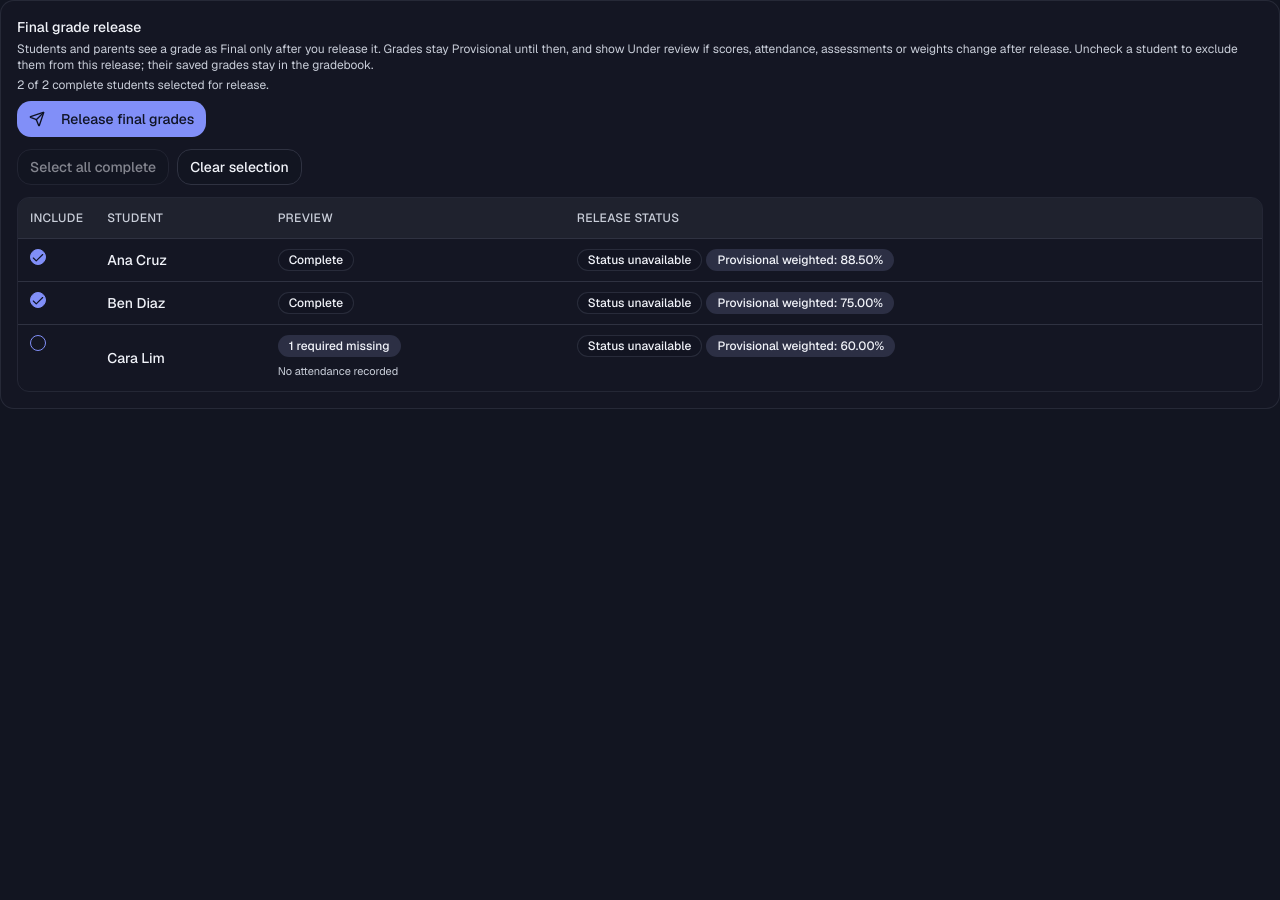
Test: FinalGradeReleasePanel › cannot start a second release while one is in flight
Step 1. Click the button "Release final grades" → (112, 119), box [17,101,206,137]
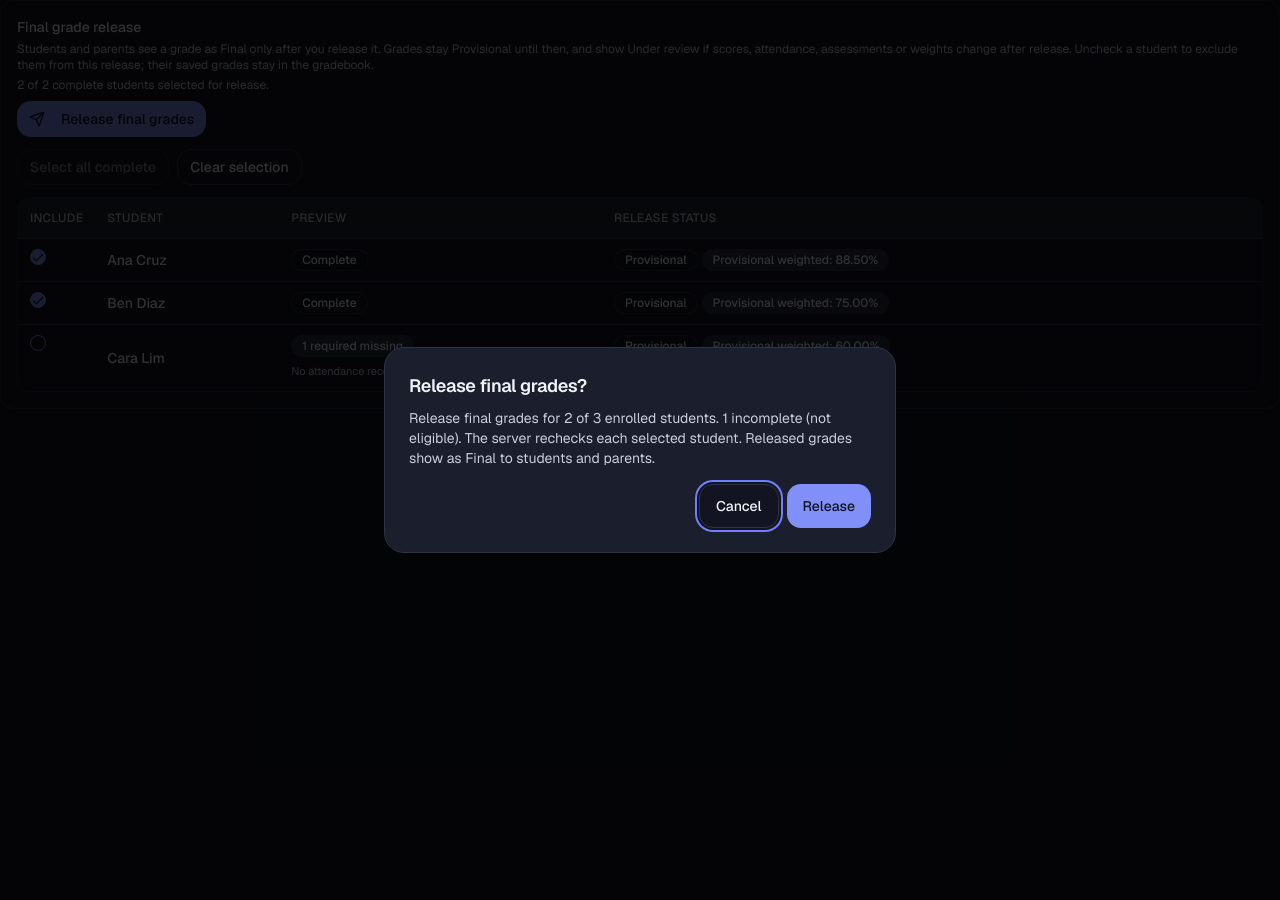
Now the text "Release final grades for 2 of 3 enrolled students" is shown, box [409,409,852,467]
Step 2. Click the button "Release" → (829, 506), box [786,484,871,528]
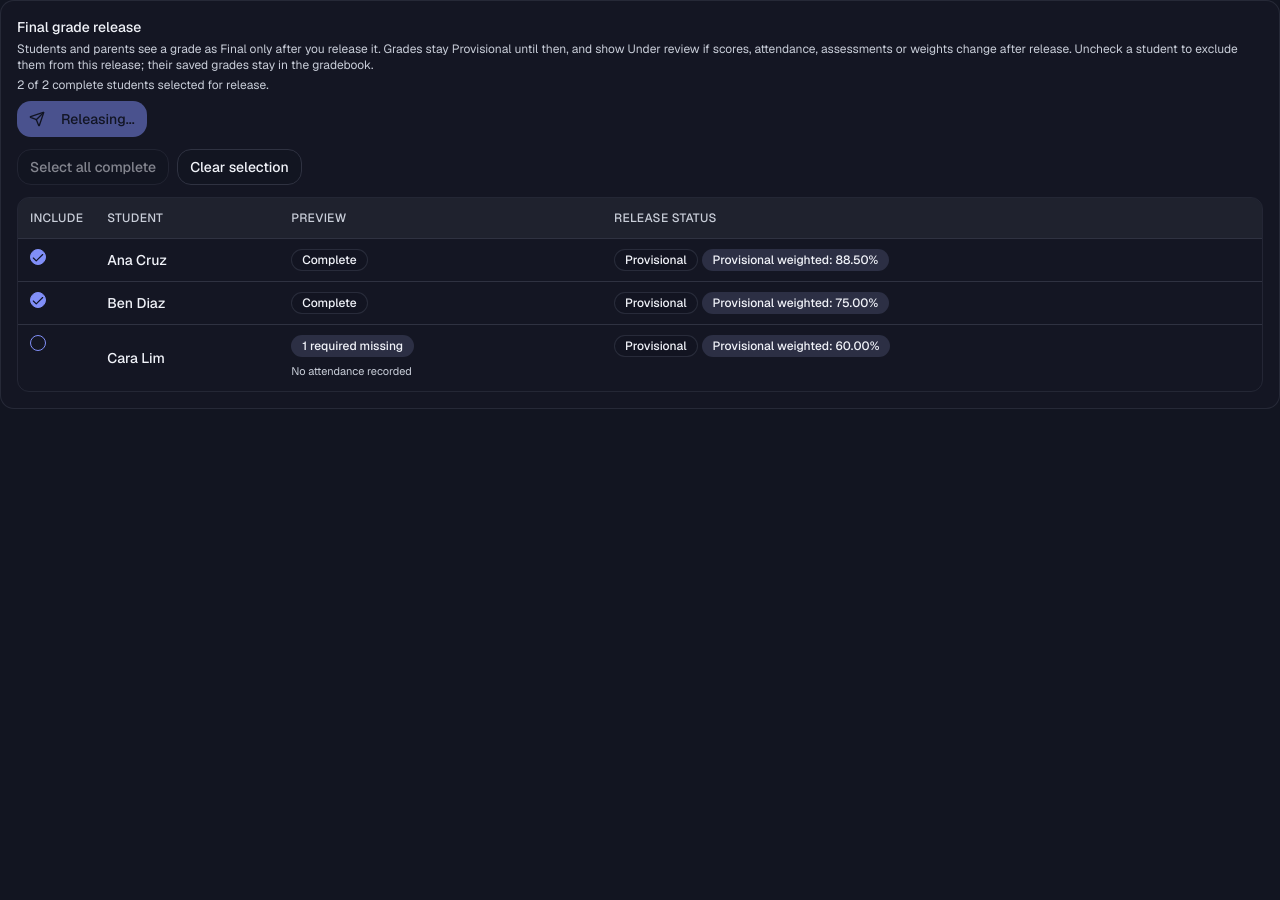
Now the button "Releasing..." is disabled
Step 3. Click the button "Releasing..." → (82, 119), box [17,101,147,137]
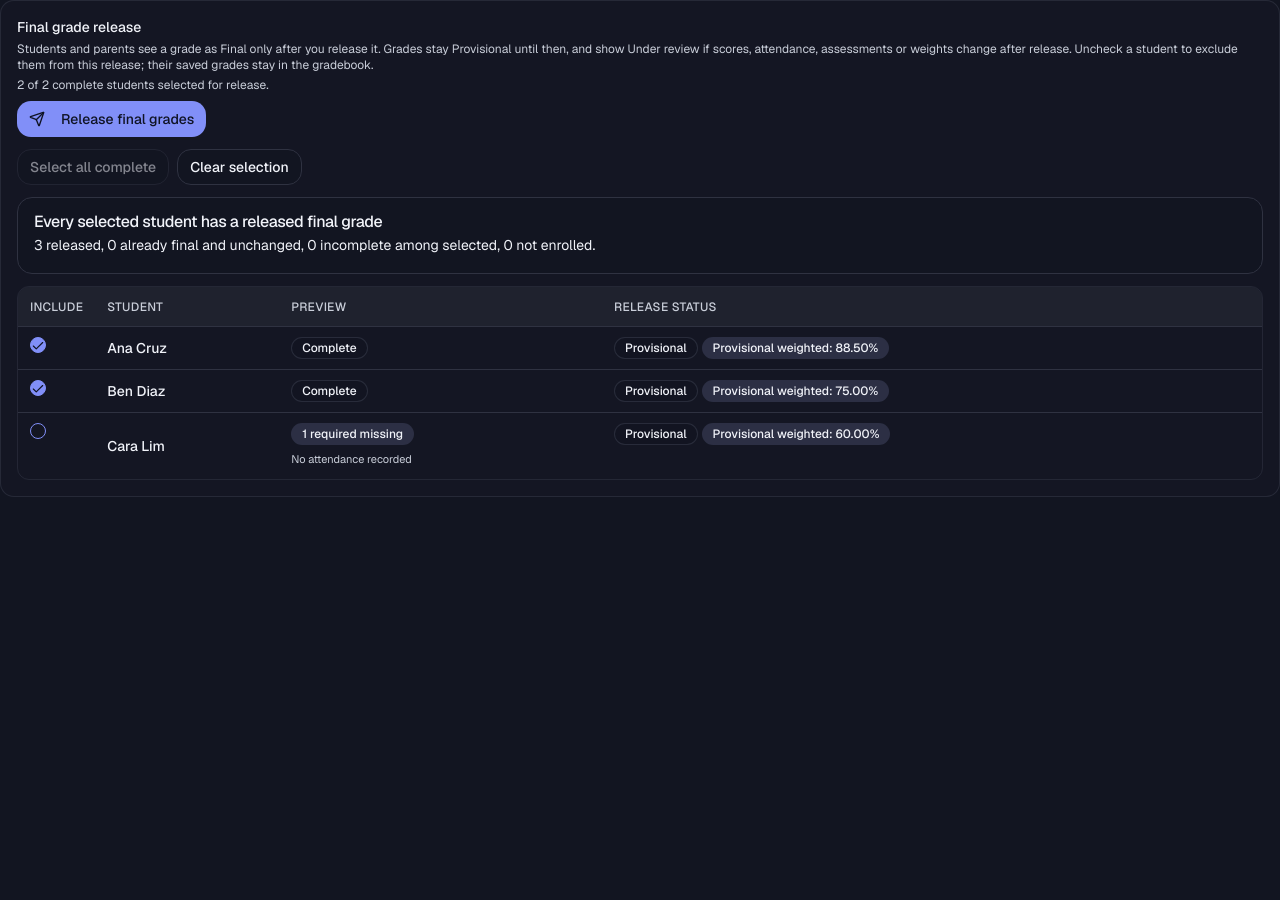
Now the heading "Every selected student has a released final grade" is shown, box [34,211,382,232]
